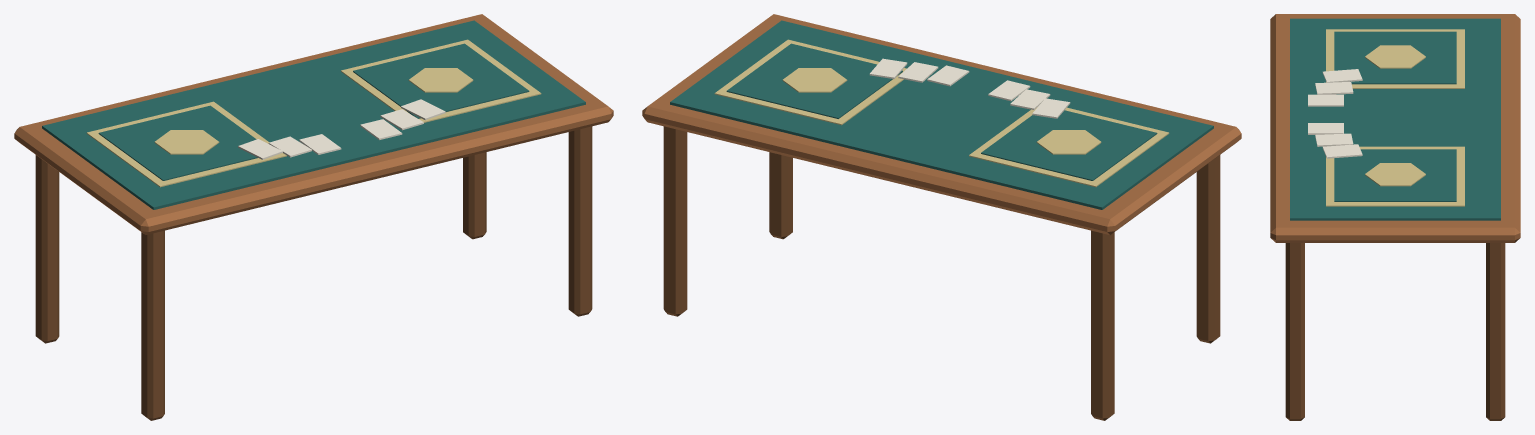
Rendered from duel_table.glb.
3 renders of one model, left to right at view 1: azimuth 30°, elevation 25°; view 2: azimuth 150°, elevation 25°; view 3: azimuth 270°, elevation 25°, orthographic. The views are drawn at different scales.
Parts seen in each view (by area): view 1: duel_table; view 2: duel_table; view 3: duel_table.
Part boxes in pixels (x1,y1,x2,y2): duel_table: [14, 14, 613, 420]; duel_table: [642, 14, 1241, 420]; duel_table: [1270, 14, 1520, 420].
Bounding box in the file's own units: 1.86 × 0.821 × 0.9.
